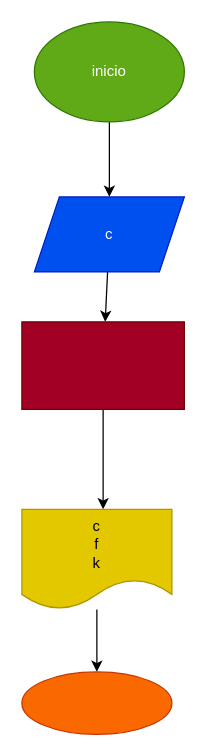
Image size: 206x756. Some labels were removed from this diagram. Here are the shapes that lost their labels. From the top down, the centre of each, then its label:
pixel 102 365: F=1.8c+32 K=c+273.15
pixel 96 702: fin
